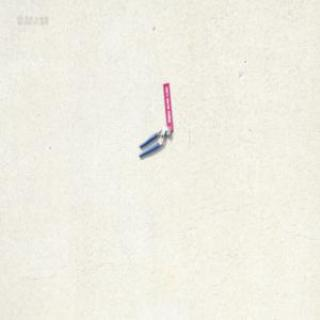LuggageTagtrack_idkeyframe: (162, 80, 173, 132)
Pliertrack_idkeyframe: (137, 124, 170, 158)
